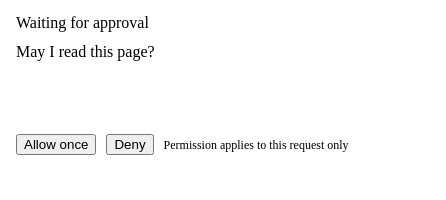
Test case: an unknown answer stays disabled until authoritative request recovery
This screenshot has width=446, height=200.
Later steps or results of the test are not shown.
Click the button "Allow once" at (56, 144), box left=16, top=134, right=96, bottom=155
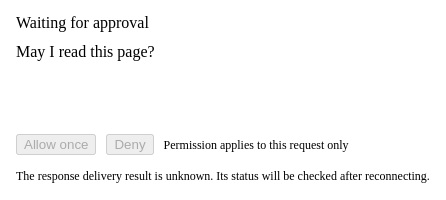
Now the button "Allow once" is disabled, box left=16, top=134, right=96, bottom=155
Now the message shows "The response delivery result is unknown.", box left=16, top=169, right=430, bottom=183
